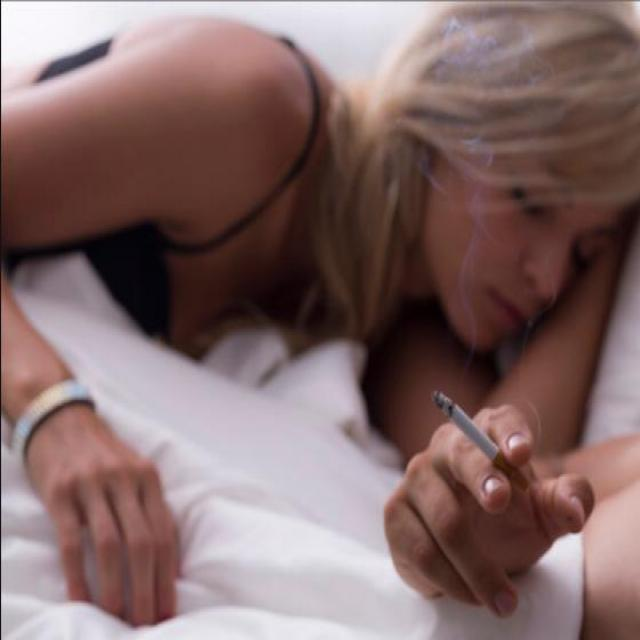cigarette: (428, 389, 500, 466)
